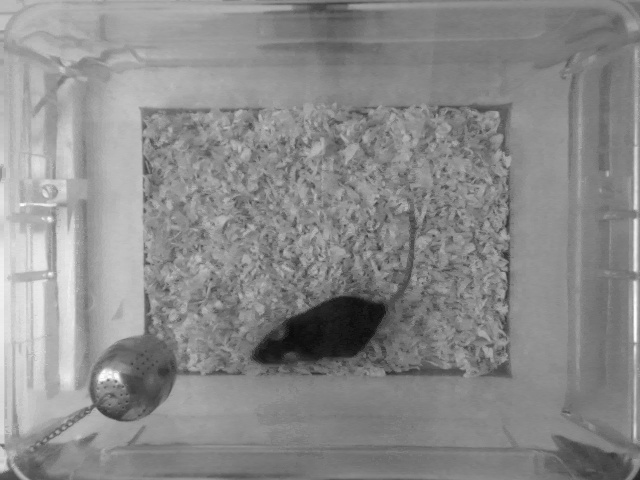mice: (246, 193, 416, 369)
